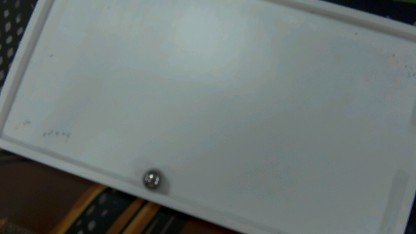ironball: (136, 166, 165, 190)
